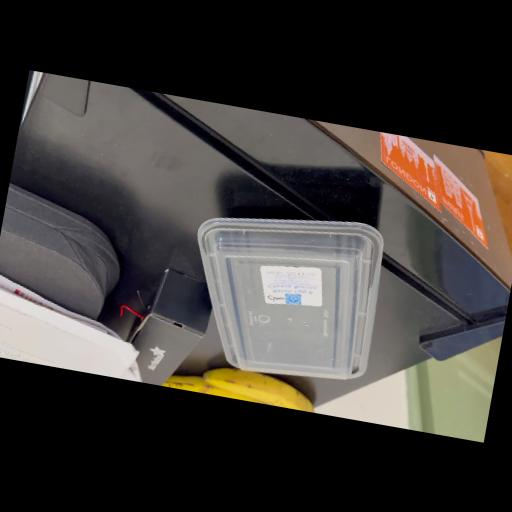rigid_plastic_container: (163, 183, 406, 400)
